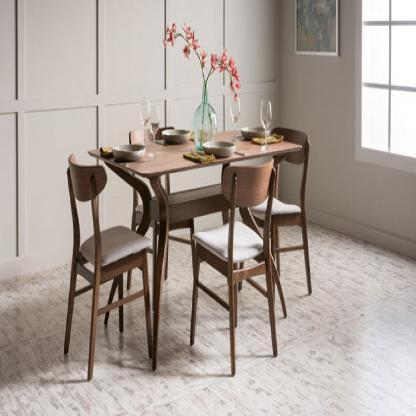chair: (184, 155, 282, 379), (62, 153, 155, 383), (244, 124, 323, 295)
table: (87, 117, 305, 355)
